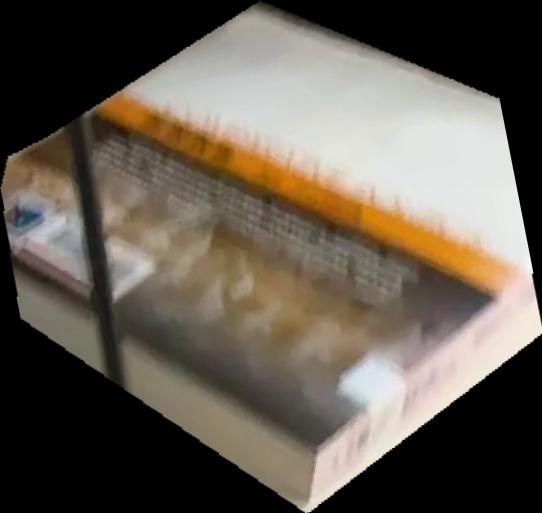flat: (1, 1, 542, 513)
